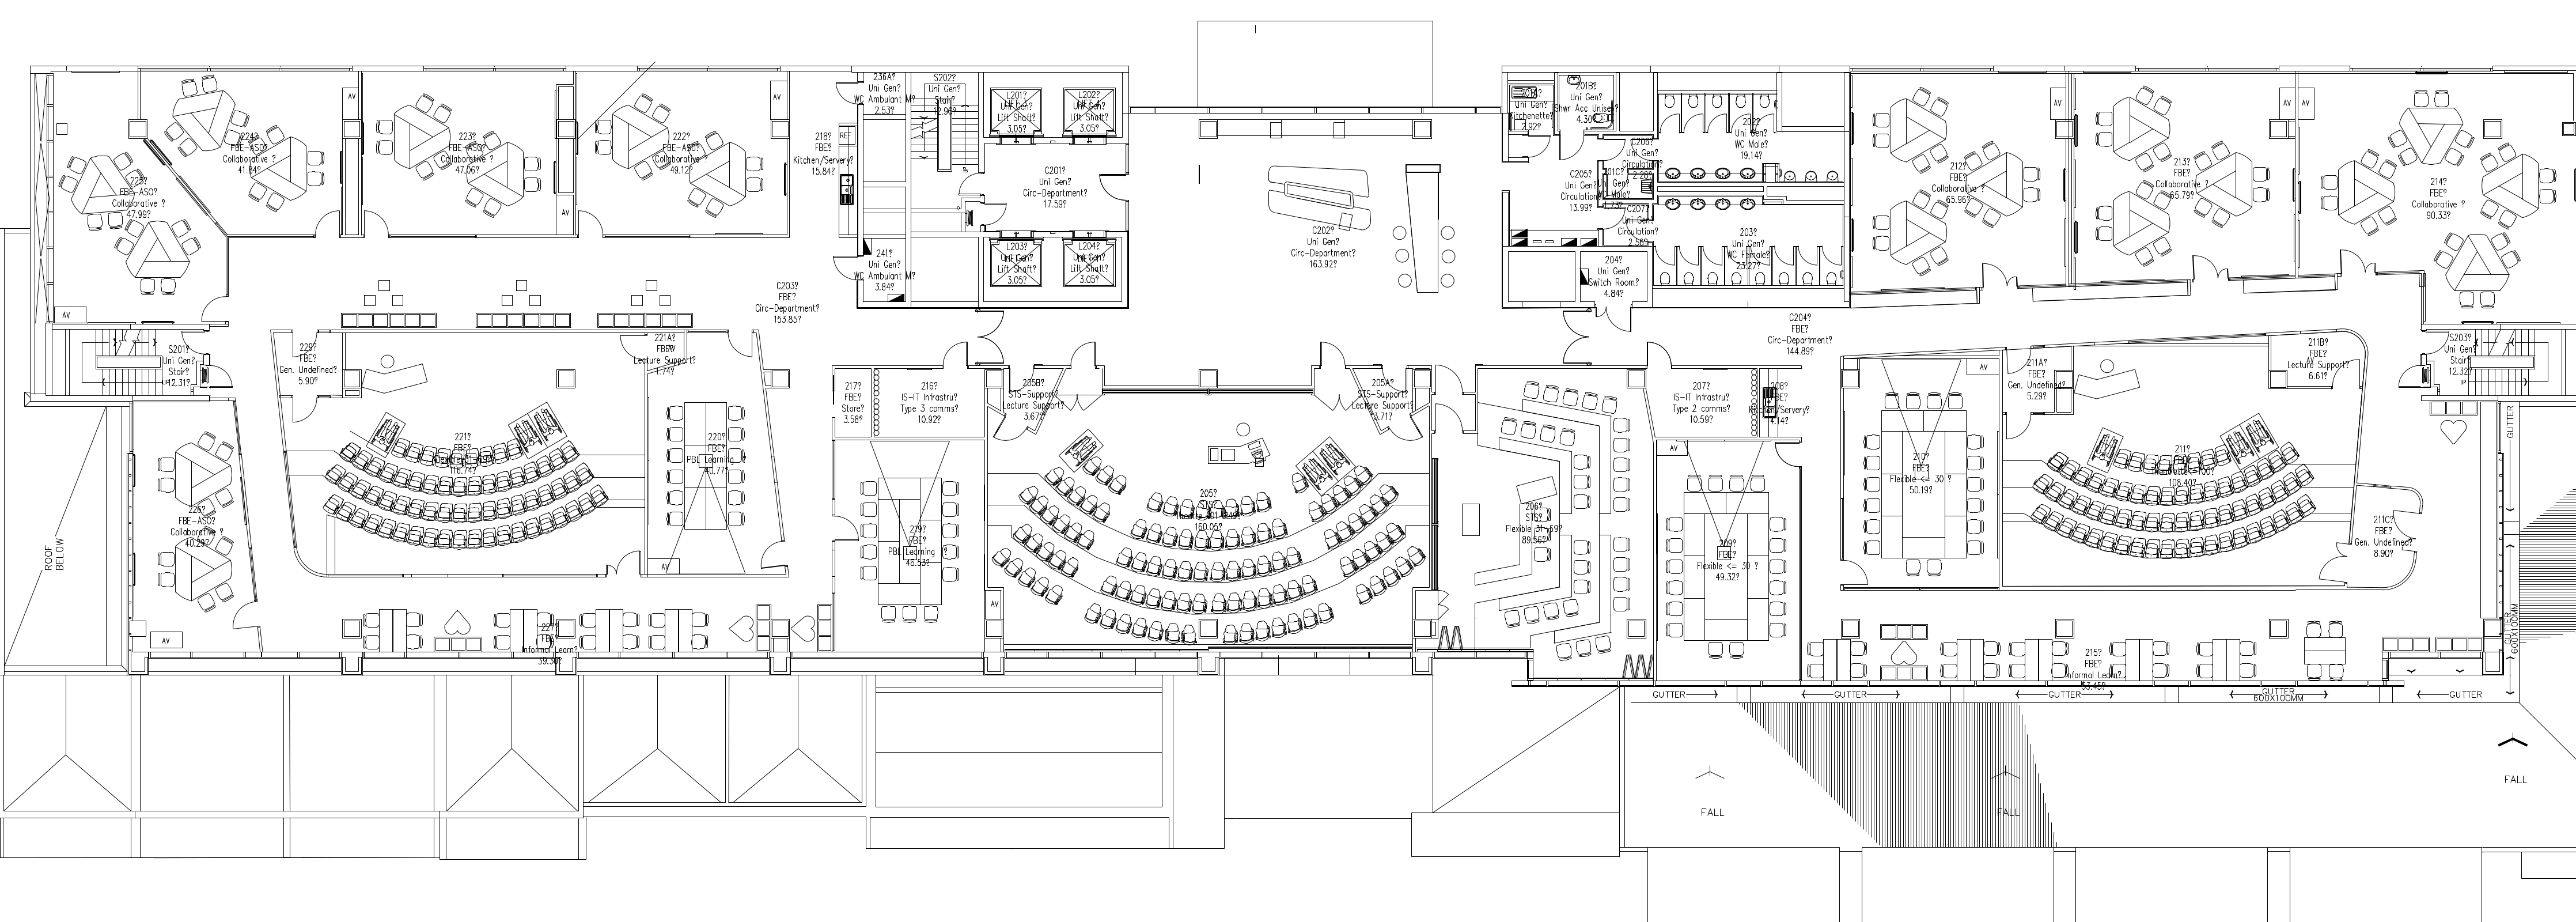text: (509, 615, 590, 685), (1168, 483, 1253, 546), (1339, 363, 1419, 429), (754, 266, 825, 339), (881, 511, 953, 580), (1914, 151, 1993, 214), (2001, 348, 2070, 417), (2279, 329, 2356, 388), (1761, 304, 1835, 365), (626, 324, 705, 380), (641, 122, 715, 181), (992, 370, 1073, 424), (1552, 66, 1618, 130), (427, 422, 499, 478), (854, 56, 908, 130), (108, 156, 168, 224), (212, 125, 281, 182), (1502, 491, 1564, 554), (161, 498, 225, 559), (892, 375, 964, 427), (1748, 376, 1814, 434), (1690, 537, 1758, 593), (790, 127, 859, 181), (2139, 150, 2210, 202), (278, 332, 342, 390), (1579, 248, 1644, 304), (2060, 641, 2126, 697), (1022, 159, 1089, 214), (1286, 220, 1357, 271), (1664, 375, 1735, 426), (1878, 450, 1958, 495), (2348, 506, 2417, 557), (2408, 169, 2466, 230), (435, 125, 498, 181), (2146, 442, 2216, 491), (685, 429, 746, 483), (854, 248, 918, 299), (1610, 120, 1663, 181), (1717, 115, 1776, 168), (1610, 202, 1659, 263), (920, 66, 971, 123), (1720, 222, 1778, 273), (1551, 163, 1607, 214), (2433, 327, 2487, 378), (153, 334, 200, 391), (1508, 82, 1557, 136), (1066, 235, 1112, 288), (991, 240, 1040, 288), (989, 89, 1040, 135), (1065, 90, 1112, 136), (836, 376, 871, 431)
